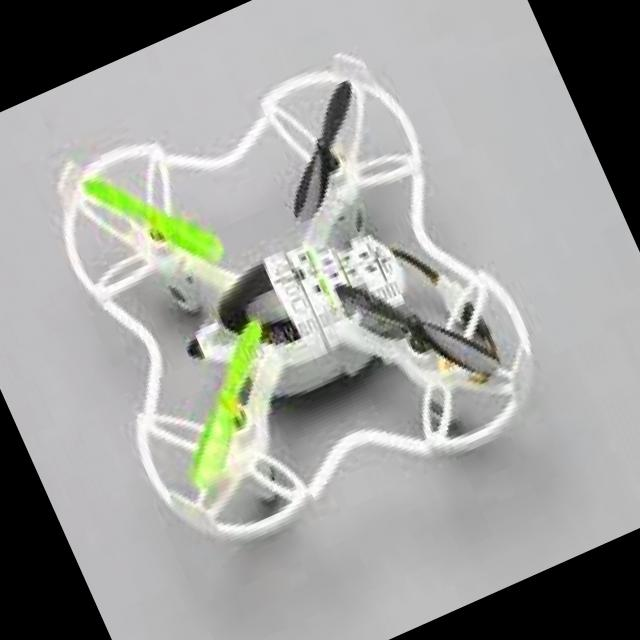drone: (4, 0, 599, 599)
